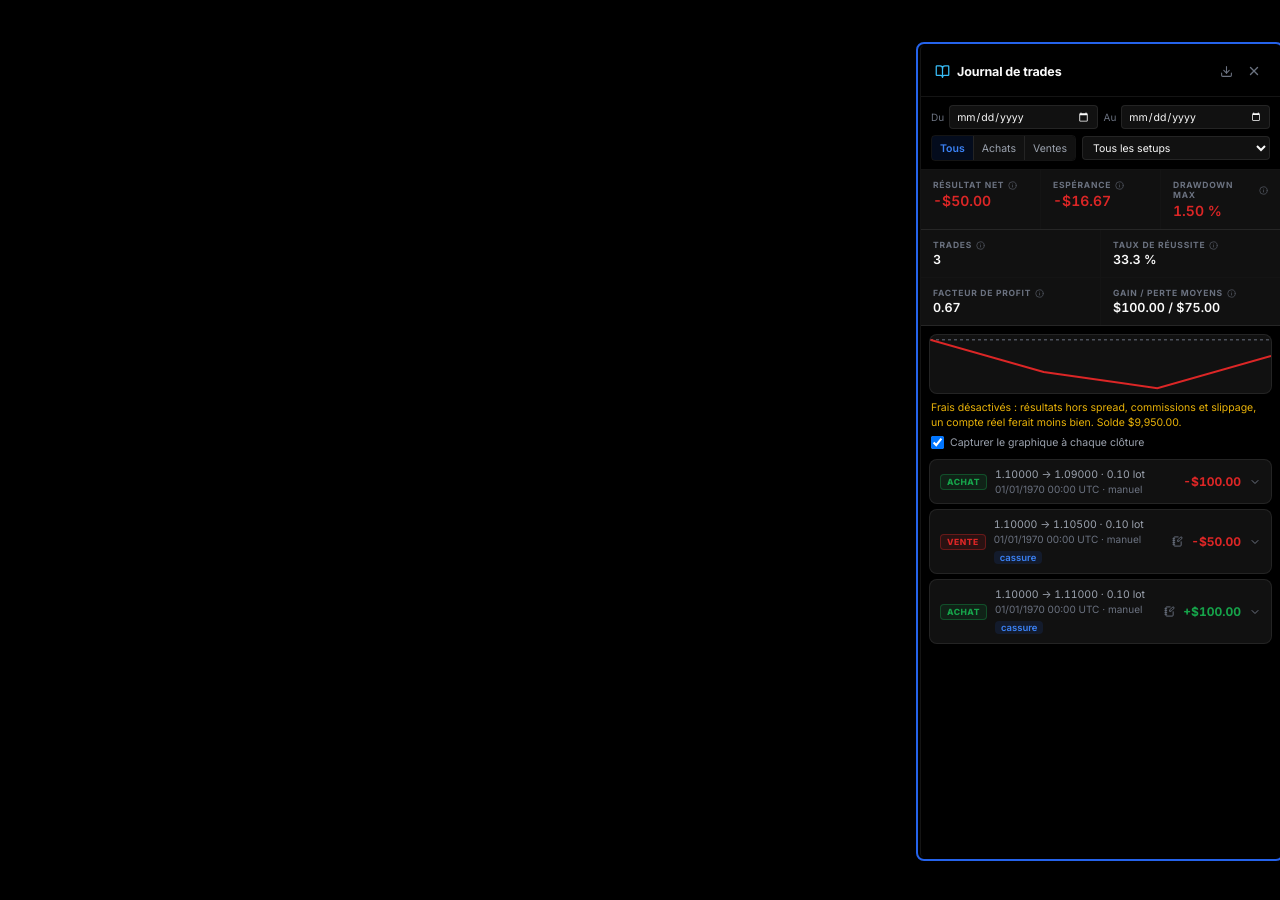
Test case: <TradeHistoryModal> › recomputes the figures on the filtered trades
Select "cassure" in the dropdown named "Setup" at (1176, 148), box [1082, 136, 1270, 160]
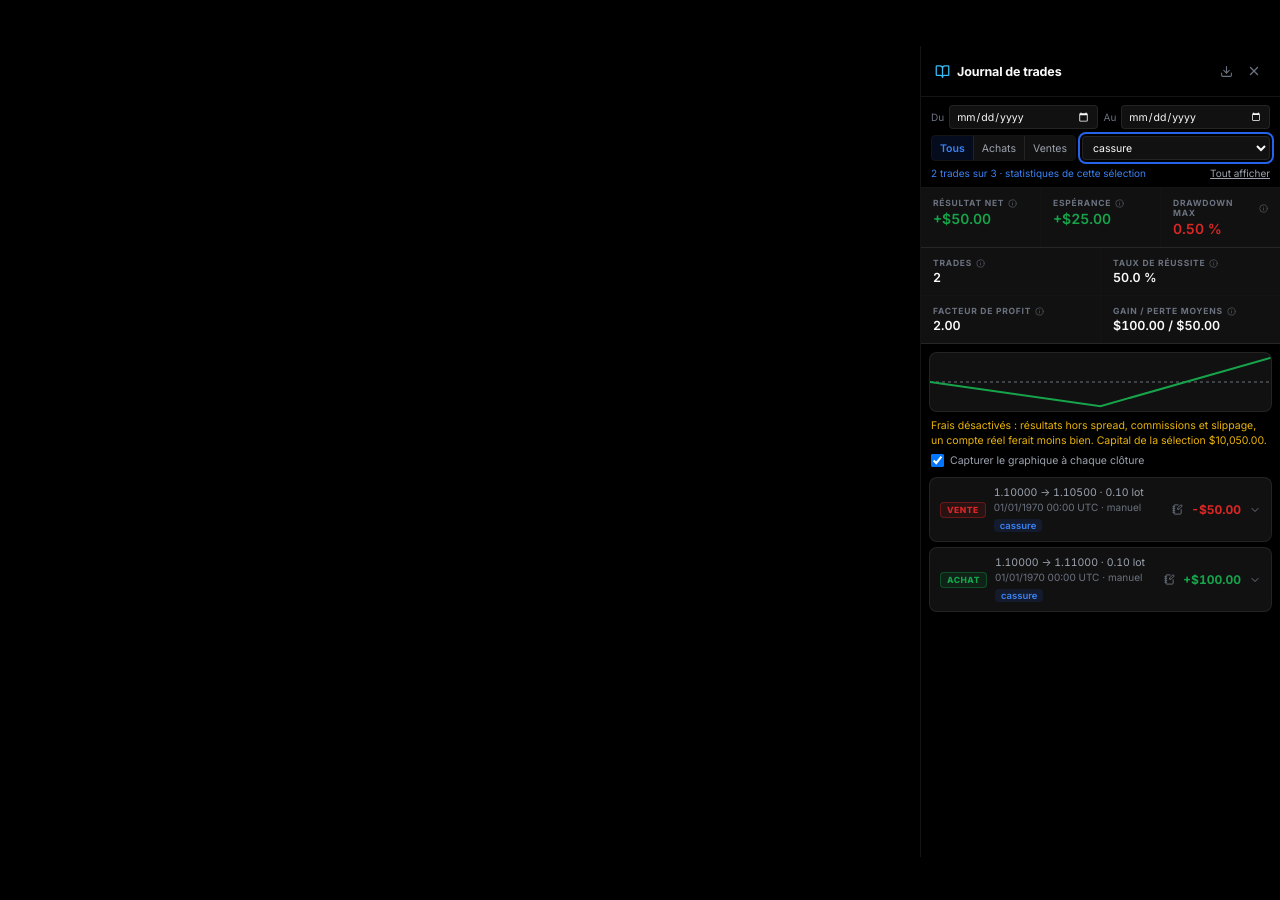
Expected: the element titled "Gains moins pertes" shows "+$50.00", [933, 210, 991, 227]
Click the radio button labelled "Achats".
click(998, 148)  # box [973, 136, 1024, 160]
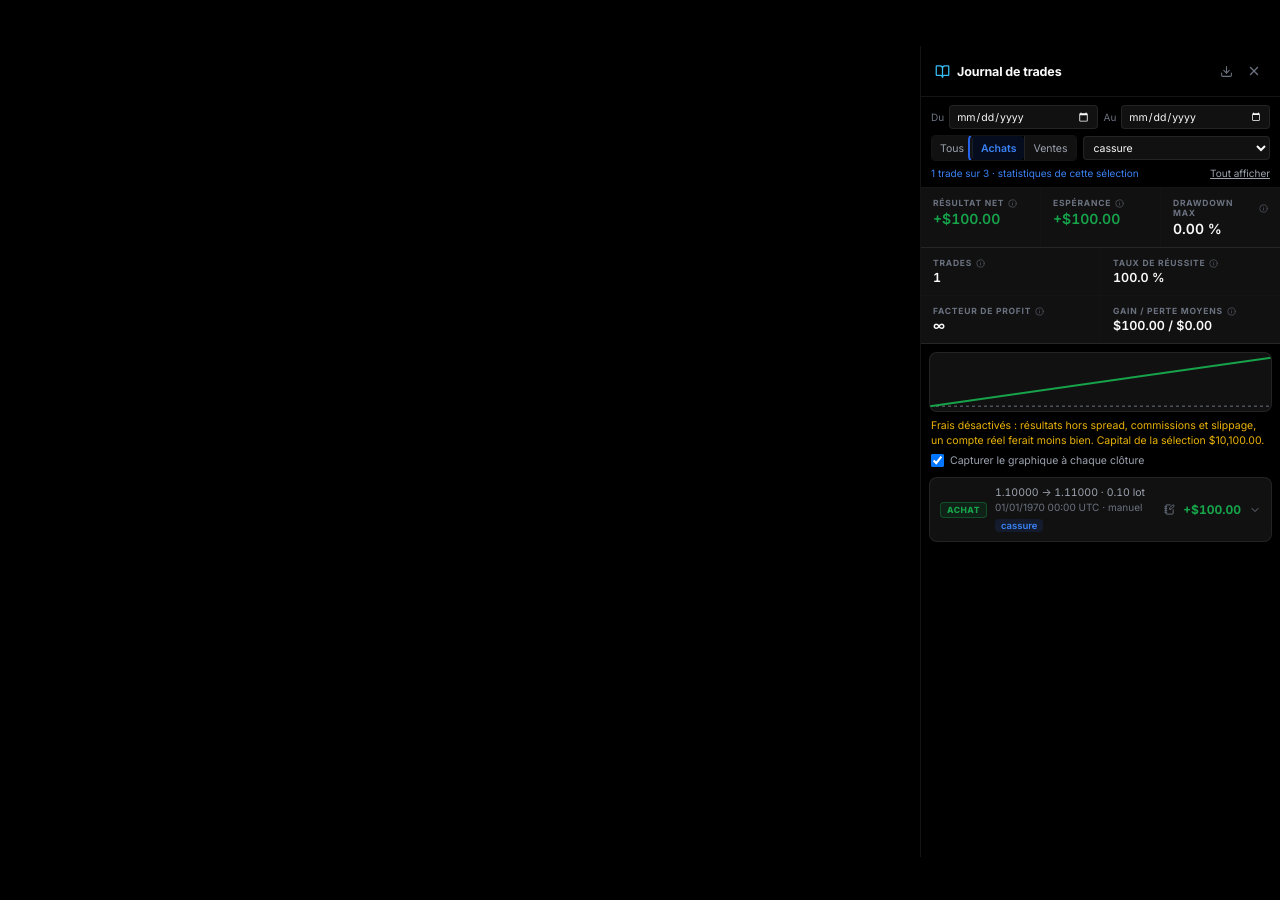
Expected: the element titled "Gains moins pertes" shows "+$100.00", [933, 210, 1000, 227]
